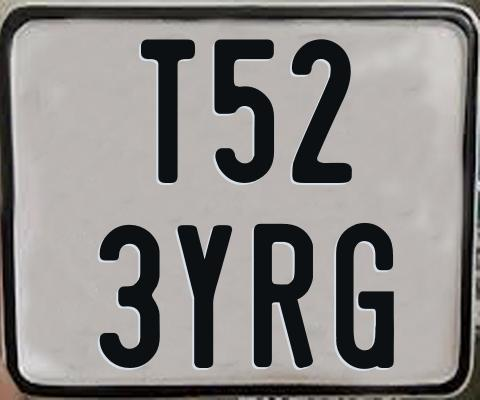2: (292, 37, 354, 183)
3: (99, 222, 161, 371)
5: (214, 37, 278, 183)
G: (336, 220, 395, 366)
R: (252, 224, 316, 369)
T: (141, 37, 195, 185)
Y: (175, 223, 234, 370)
